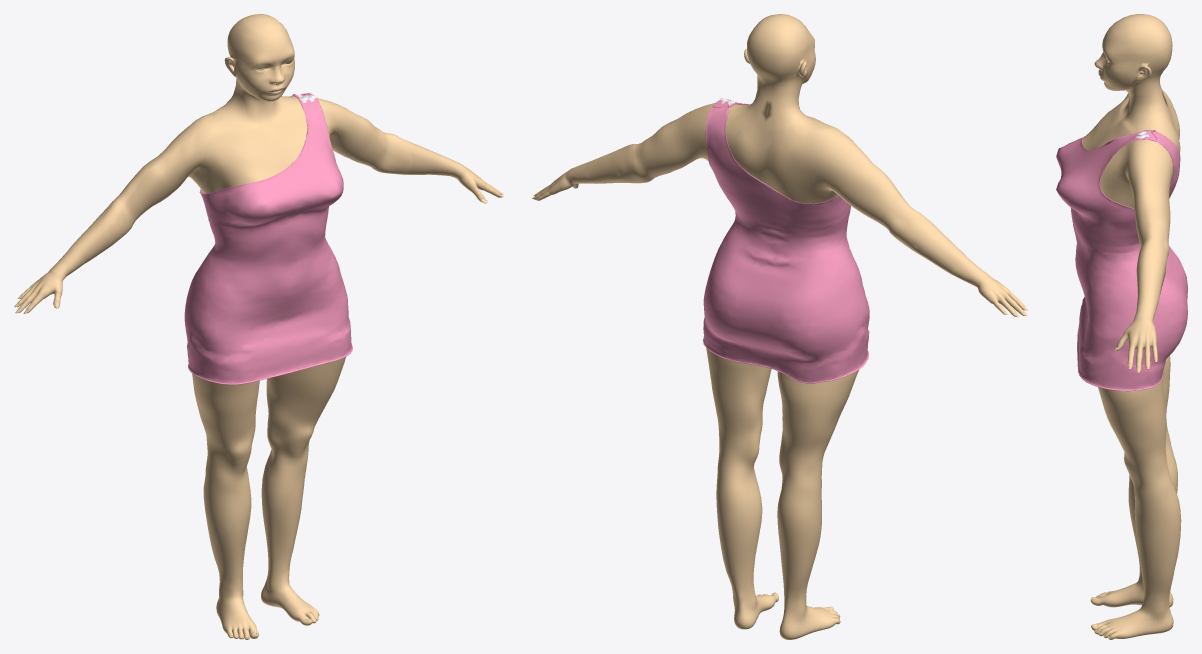
The model's file is dress1.glb.
3 renders of one model, left to right at view 1: azimuth 30°, elevation 25°; view 2: azimuth 150°, elevation 25°; view 3: azimuth 270°, elevation 25°, orthographic.
Visible parts, largest first — view 1: Body, WhiteDress; view 2: Body, WhiteDress; view 3: Body, WhiteDress.
Part boxes in pixels (bbox=[...]): Body: bbox=[16, 14, 503, 639]; WhiteDress: bbox=[184, 93, 352, 384]; Body: bbox=[533, 14, 1024, 639]; WhiteDress: bbox=[703, 98, 869, 383]; Body: bbox=[1082, 14, 1181, 639]; WhiteDress: bbox=[1056, 130, 1187, 391].
Bounding box in the file's own units: 1.58 × 1.85 × 0.3678.
